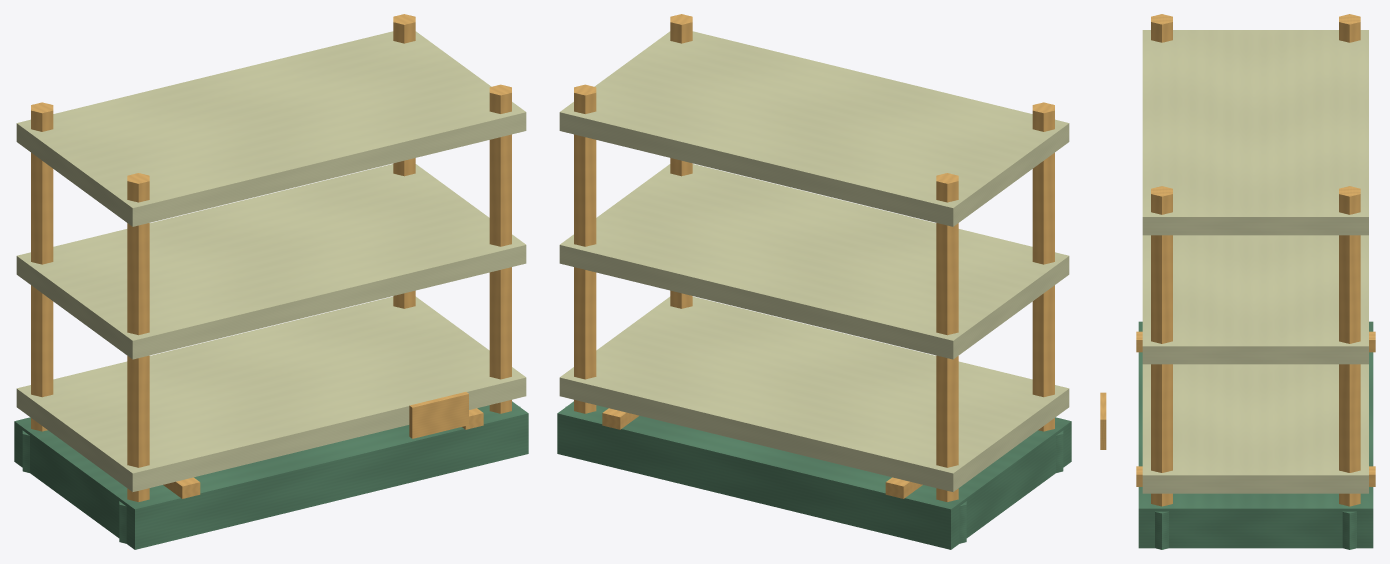
The model's file is atlas100-s005-a06.lod1.glb.
3 views of the same model, side by side, from view 1: azimuth 30°, elevation 25°; view 2: azimuth 150°, elevation 25°; view 3: azimuth 270°, elevation 25° (orthographic). The views are drawn at different scales.
Visible parts, largest first — view 1: atlas100-s005-a06:part-013, atlas100-s005-a06:part-012, atlas100-s005-a06:part-011, atlas100-s005-a06:part-000, atlas100-s005-a06:part-005, atlas100-s005-a06:part-009, atlas100-s005-a06:part-003, atlas100-s005-a06:part-014, atlas100-s005-a06:part-007; view 2: atlas100-s005-a06:part-013, atlas100-s005-a06:part-012, atlas100-s005-a06:part-011, atlas100-s005-a06:part-000, atlas100-s005-a06:part-003, atlas100-s005-a06:part-007, atlas100-s005-a06:part-005, atlas100-s005-a06:part-009; view 3: atlas100-s005-a06:part-013, atlas100-s005-a06:part-012, atlas100-s005-a06:part-011, atlas100-s005-a06:part-000, atlas100-s005-a06:part-009, atlas100-s005-a06:part-007, atlas100-s005-a06:part-003, atlas100-s005-a06:part-005, atlas100-s005-a06:part-008, atlas100-s005-a06:part-010, atlas100-s005-a06:part-014.
Part boxes in pixels (x1,y1,x2,y2): atlas100-s005-a06:part-013: (16,31,526,226); atlas100-s005-a06:part-012: (16,164,526,359); atlas100-s005-a06:part-011: (16,296,526,491); atlas100-s005-a06:part-000: (14,401,528,549); atlas100-s005-a06:part-005: (127,173,149,502); atlas100-s005-a06:part-009: (489,84,511,413); atlas100-s005-a06:part-003: (31,102,53,431); atlas100-s005-a06:part-014: (409,392,468,438); atlas100-s005-a06:part-007: (393,14,415,308); atlas100-s005-a06:part-013: (559,31,1069,226); atlas100-s005-a06:part-012: (559,164,1069,359); atlas100-s005-a06:part-011: (559,296,1069,491); atlas100-s005-a06:part-000: (557,401,1071,549); atlas100-s005-a06:part-003: (936,173,958,502); atlas100-s005-a06:part-007: (574,84,596,413); atlas100-s005-a06:part-005: (1032,102,1054,431); atlas100-s005-a06:part-009: (670,14,692,308); atlas100-s005-a06:part-013: (1142,30,1368,235); atlas100-s005-a06:part-012: (1142,235,1368,364); atlas100-s005-a06:part-011: (1142,364,1368,493); atlas100-s005-a06:part-000: (1138,321,1373,548); atlas100-s005-a06:part-009: (1151,186,1172,506); atlas100-s005-a06:part-007: (1339,186,1360,506); atlas100-s005-a06:part-003: (1339,14,1360,42); atlas100-s005-a06:part-005: (1151,14,1172,42); atlas100-s005-a06:part-008: (1342,511,1356,549); atlas100-s005-a06:part-010: (1155,511,1168,549); atlas100-s005-a06:part-014: (1100,392,1106,449).
Bounding box in the file's own units: 2.69 × 2.3 × 1.64.
Materials: 3 (3 with a texture image).
